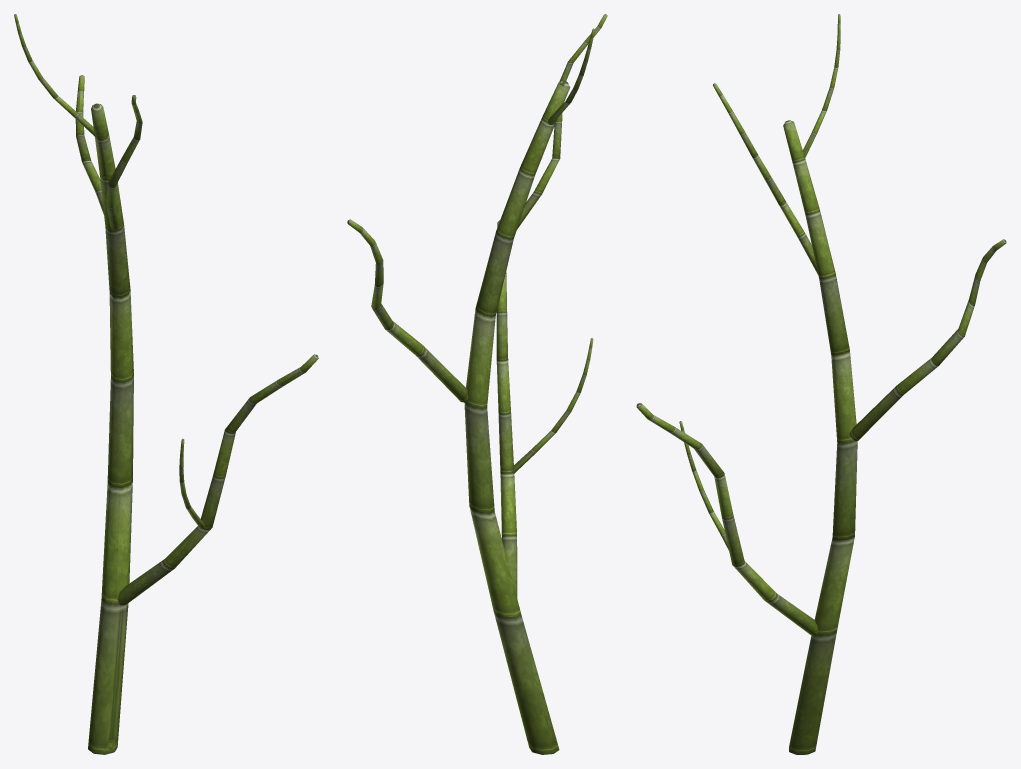
The model's file is BambooSet_part_3.fbx.
3 views of the same model, side by side, from view 1: azimuth 30°, elevation 25°; view 2: azimuth 150°, elevation 25°; view 3: azimuth 270°, elevation 25° (orthographic). The views are drawn at different scales.
Visible parts, largest first — view 1: Object_15.001; view 2: Object_15.001; view 3: Object_15.001.
Part boxes in pixels (x1,y1,x2,y2): Object_15.001: (14, 14, 318, 754); Object_15.001: (347, 14, 607, 754); Object_15.001: (636, 14, 1006, 754).
Bounding box in the file's own units: 289 × 1021 × 486.
